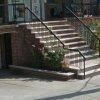stairs: (26, 19, 98, 76)
